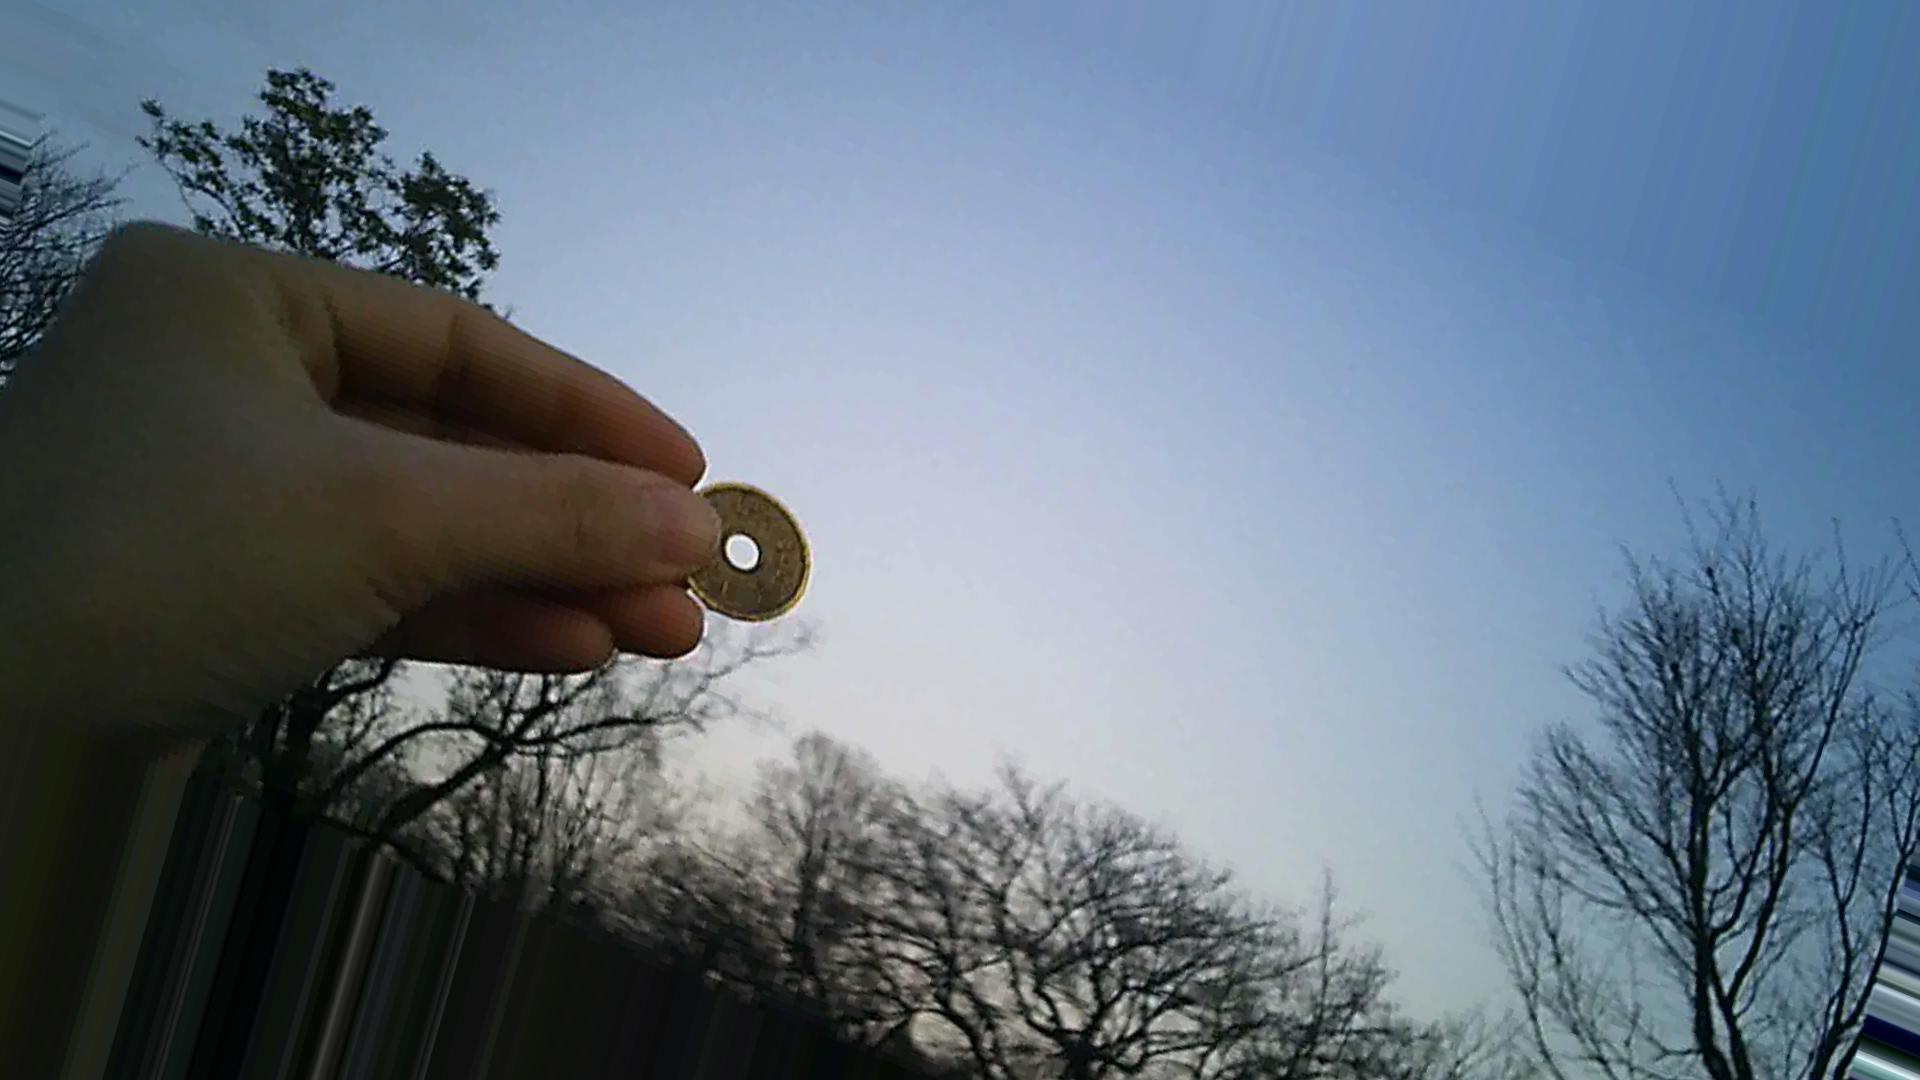5 Yen: (673, 471, 825, 644)
